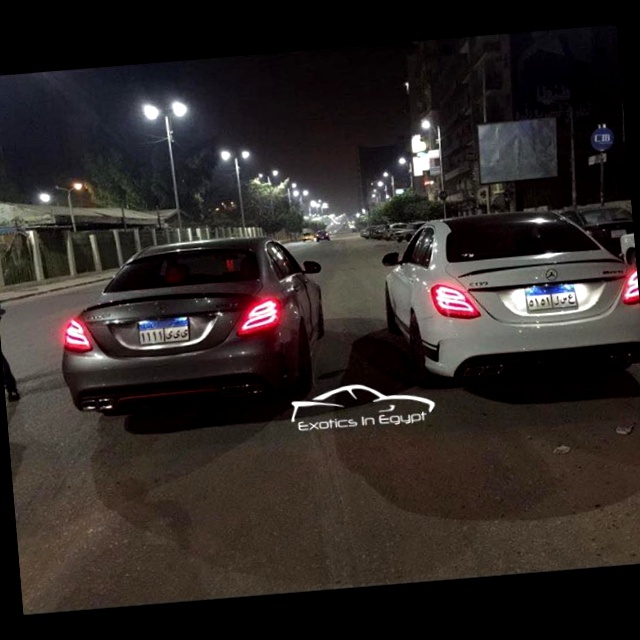License Plate: (137, 315, 193, 346), (524, 282, 579, 312)
